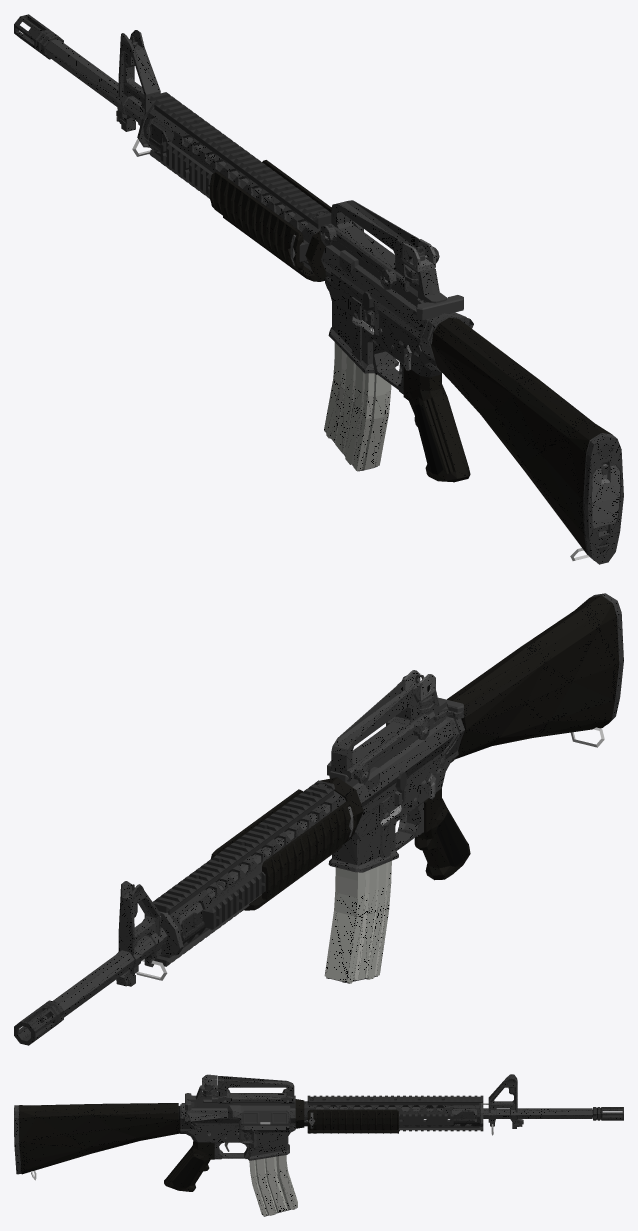
3 views of the same model, one above another, from view 1: azimuth 30°, elevation 25°; view 2: azimuth 150°, elevation 25°; view 3: azimuth 270°, elevation 25° (orthographic). The views are drawn at different scales.
Visible parts, largest first — view 1: Body, Magazine; view 2: Body, Magazine; view 3: Body, Magazine.
Part boxes in pixels (left/top/right/bottom): Body: left=14, top=14, right=623, bottom=564; Magazine: left=324, top=316, right=391, bottom=471; Body: left=14, top=593, right=623, bottom=1045; Magazine: left=324, top=805, right=401, bottom=983; Body: left=14, top=1074, right=623, bottom=1191; Magazine: left=244, top=1133, right=297, bottom=1216.
Bounding box in the file's own units: 0.0618 × 0.2505 × 1.
Materials: 1 (1 with a texture image).
